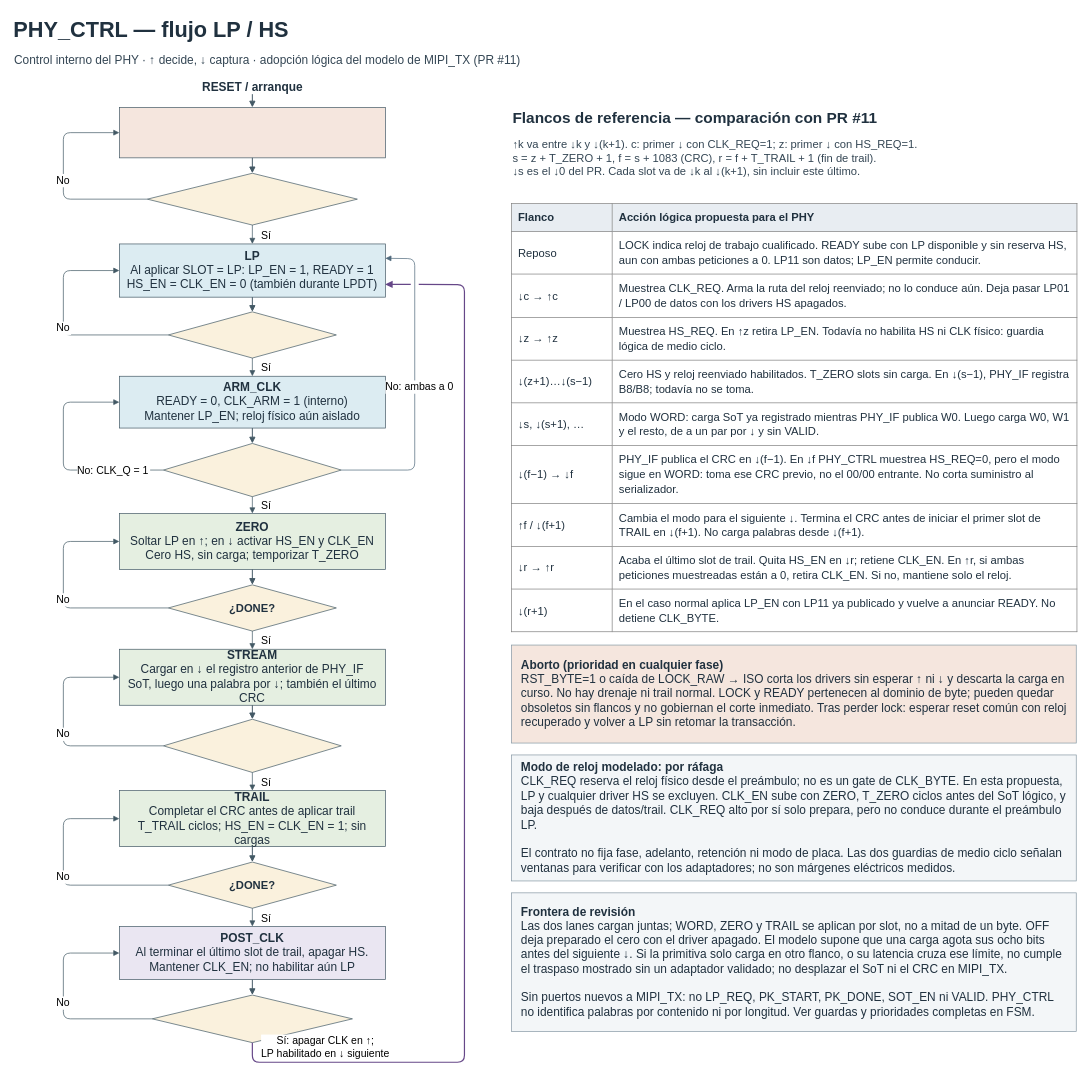
Some shapes in this 1089 by 1080 pixel diagram are drawn without their labels. Each missing label, with the centre of its shape:
SAFE LP_EN = HS_EN = CLK_EN = 0 Recuperar reloj y confirmar reset común: point (252, 132)
¿CLK_Q = 1?: point (252, 334)
¿HS_Q = 0 después del ↓?: point (252, 745)
¿HS_Q = 1 con CLK_Q = 1?: point (252, 470)
¿HS_Q = CLK_Q = 0?: point (252, 1018)
¿RUN y HS_Q = CLK_Q = 0?: point (252, 199)
